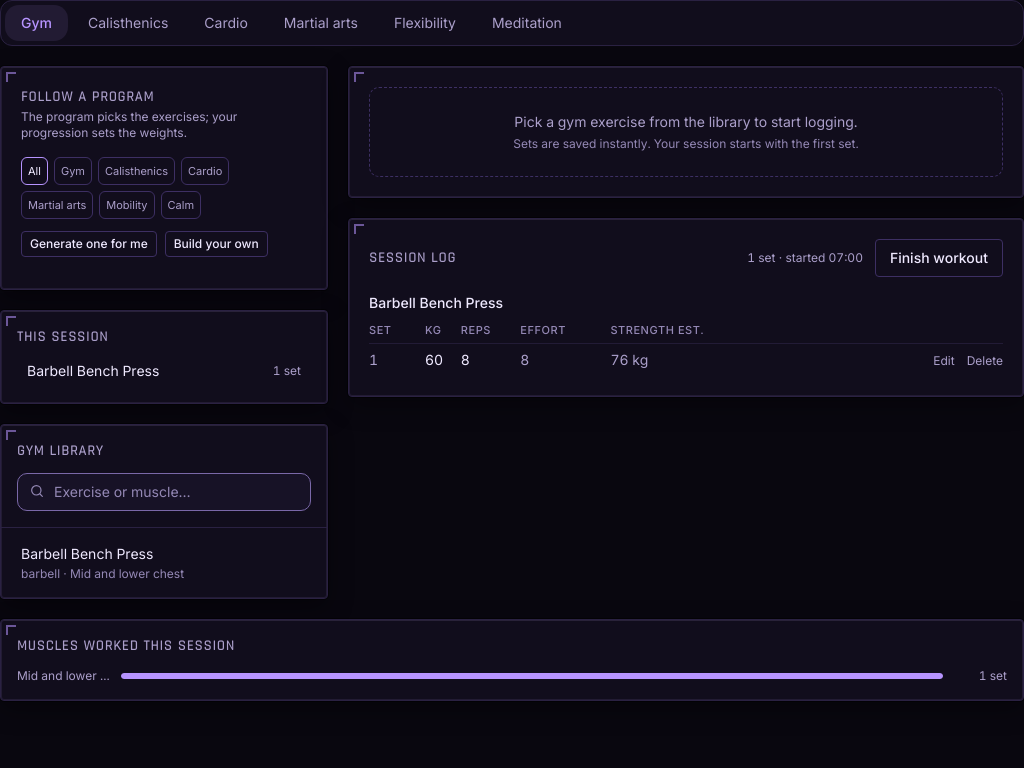
Test: Training page › deletes a set after confirming
Click the button with aria-label "Delete set 1". click: (985, 361)
box: [967, 353, 1003, 369]
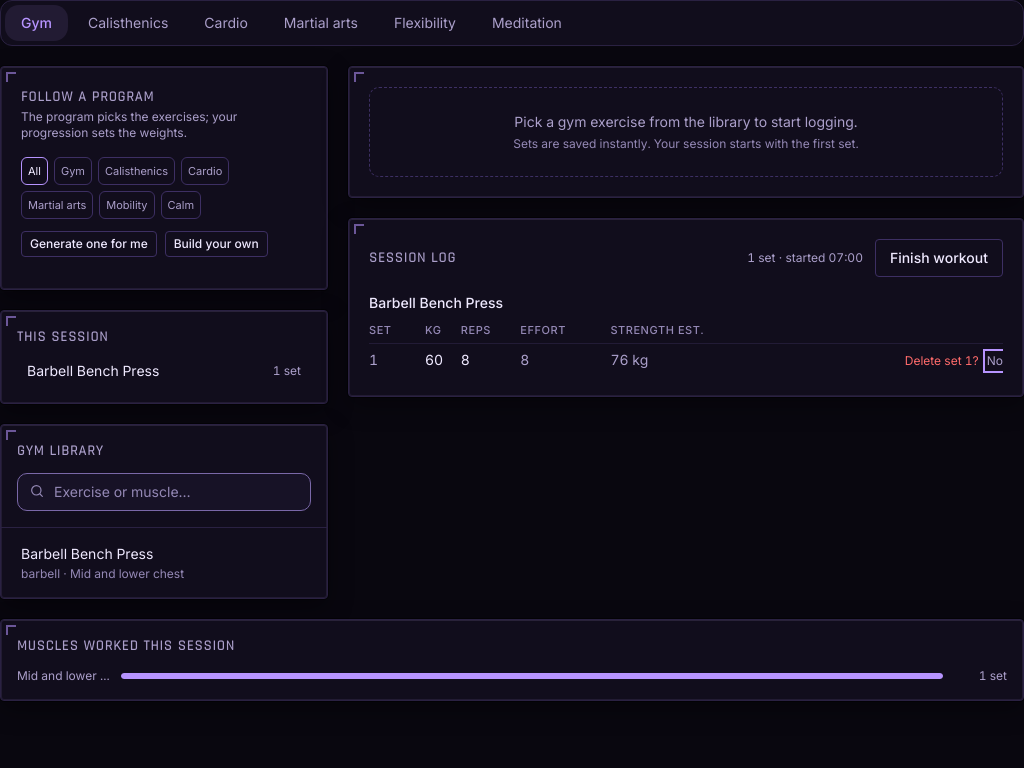
Click the button "Delete set 1?". click: (942, 361)
box: [905, 353, 979, 369]
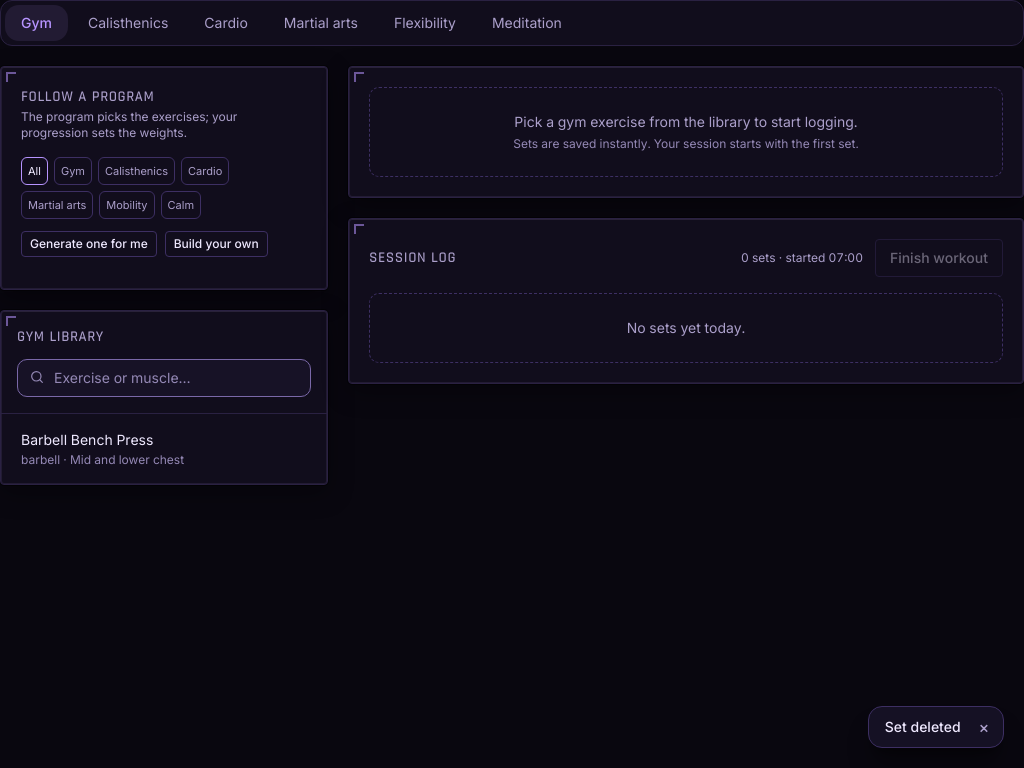
Expected: the text "No sets yet today." is shown, [627, 319, 745, 336]
